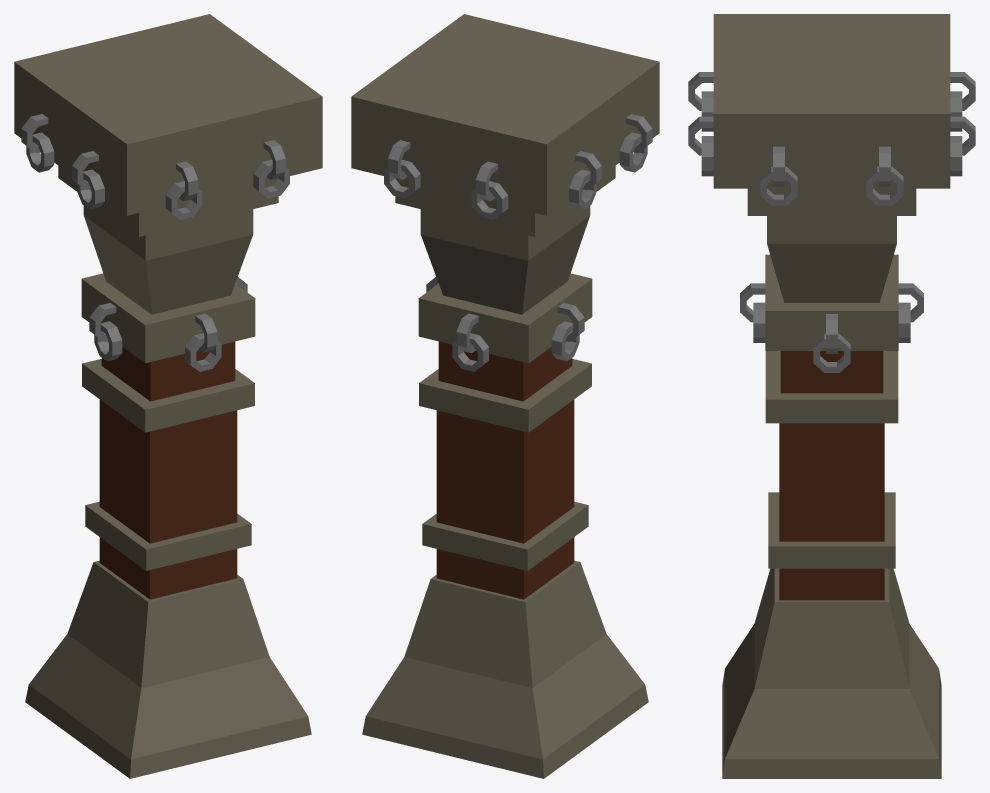
File: Pillar1.fbx
3 renders of one model, left to right at view 1: azimuth 30°, elevation 25°; view 2: azimuth 150°, elevation 25°; view 3: azimuth 270°, elevation 25°, orthographic. The views are drawn at different scales.
Visible parts, largest first — view 1: Pillar1; view 2: Pillar1; view 3: Pillar1.
Part boxes in pixels (x1=…): Pillar1: x1=14, y1=14, x2=322, y2=778; Pillar1: x1=351, y1=14, x2=659, y2=778; Pillar1: x1=688, y1=14, x2=975, y2=778.
Size of the model in its own units: 117 by 300 by 117.
